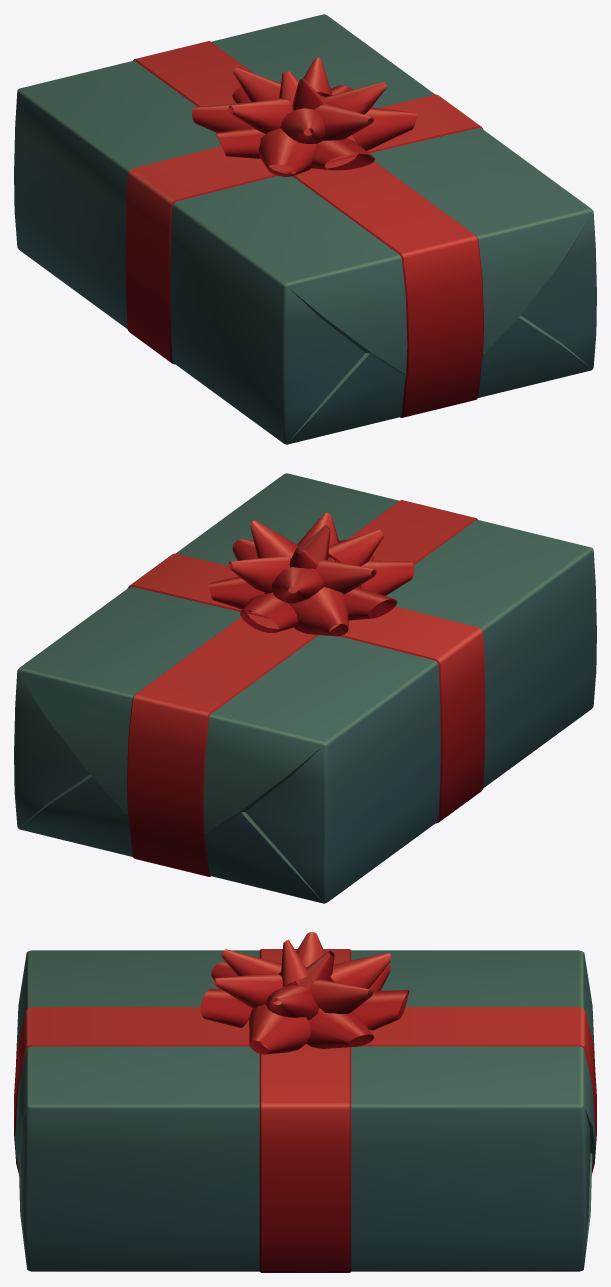
3 renders of one model, top to bottom at view 1: azimuth 30°, elevation 25°; view 2: azimuth 150°, elevation 25°; view 3: azimuth 270°, elevation 25°, orthographic. The views are drawn at different scales.
Visible parts, largest first — view 1: Box, Ribbon_Ribbon_0; view 2: Box, Ribbon_Ribbon_0; view 3: Box, Ribbon_Ribbon_0.
Boxes of the visible parts, x1,y1,x2,y2 form: Box: (14, 14, 596, 444); Ribbon_Ribbon_0: (125, 41, 483, 417); Box: (14, 473, 596, 903); Ribbon_Ribbon_0: (127, 500, 485, 876); Box: (15, 950, 595, 1271); Ribbon_Ribbon_0: (14, 932, 596, 1272).
Size of the model in its own units: 31.15 by 22.83 by 47.92.
3 materials, 3 textured.
